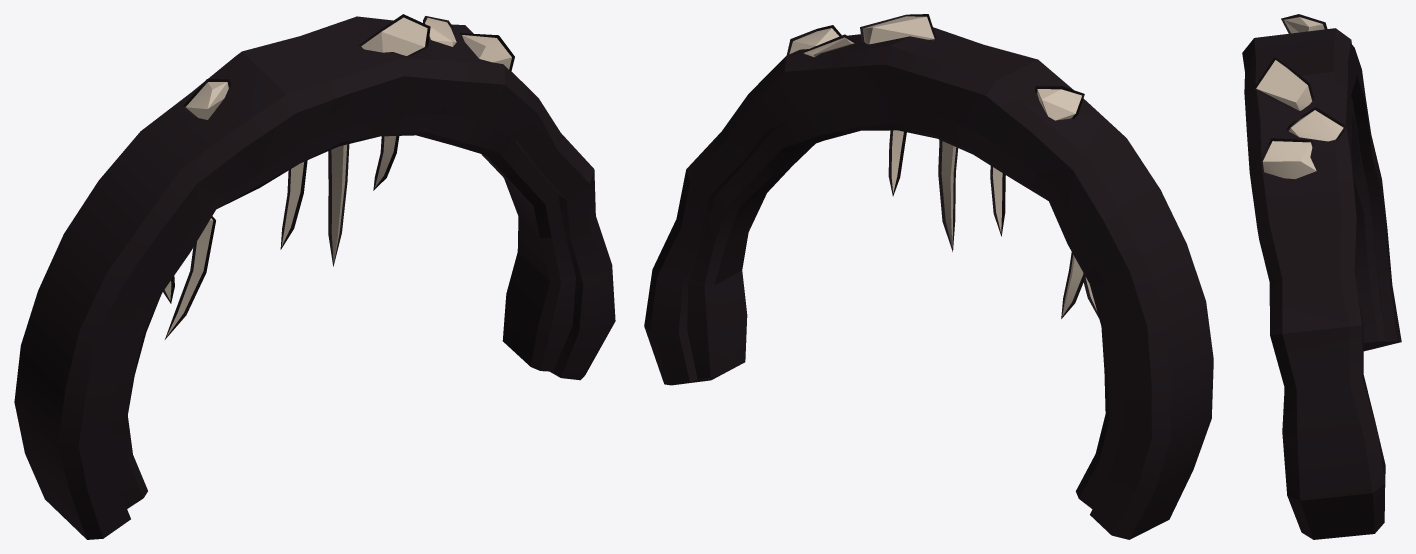
The model's file is SM_Ruin_Ring_02.fbx.
3 renders of one model, left to right at view 1: azimuth 30°, elevation 25°; view 2: azimuth 150°, elevation 25°; view 3: azimuth 270°, elevation 25°, orthographic. The views are drawn at different scales.
Parts seen in each view (by area): view 1: SM_Ruin_Ring_02; view 2: SM_Ruin_Ring_02; view 3: SM_Ruin_Ring_02.
Part boxes in pixels (left/top/right/bottom): SM_Ruin_Ring_02: left=14, top=14, right=615, bottom=539; SM_Ruin_Ring_02: left=644, top=14, right=1213, bottom=539; SM_Ruin_Ring_02: left=1242, top=14, right=1401, bottom=539.
Bounding box in the file's own units: 36.11 × 28.1 × 9.69.
